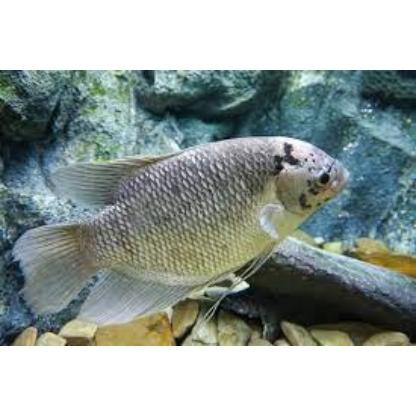gurame: (9, 134, 345, 323)
